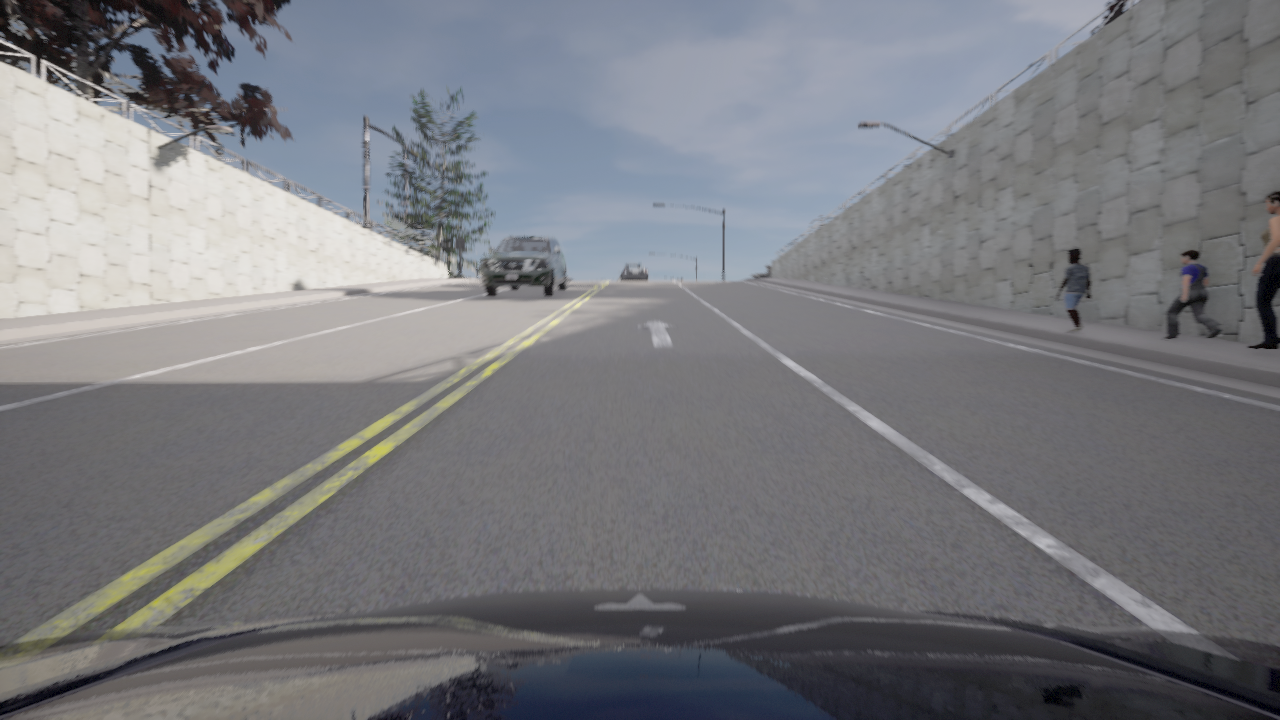cyclist: (0, 588, 1279, 719), (480, 235, 567, 296), (616, 263, 648, 280)
pedestrian: (1162, 249, 1221, 338), (1247, 190, 1279, 349), (1055, 251, 1091, 331)
